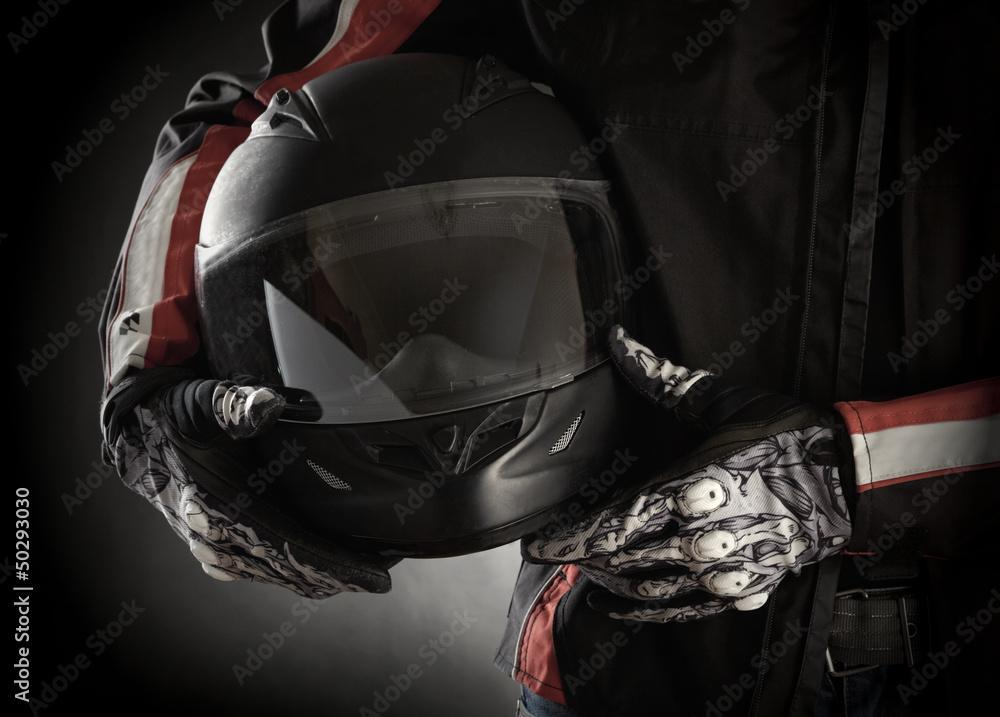helmet: (191, 49, 643, 561)
